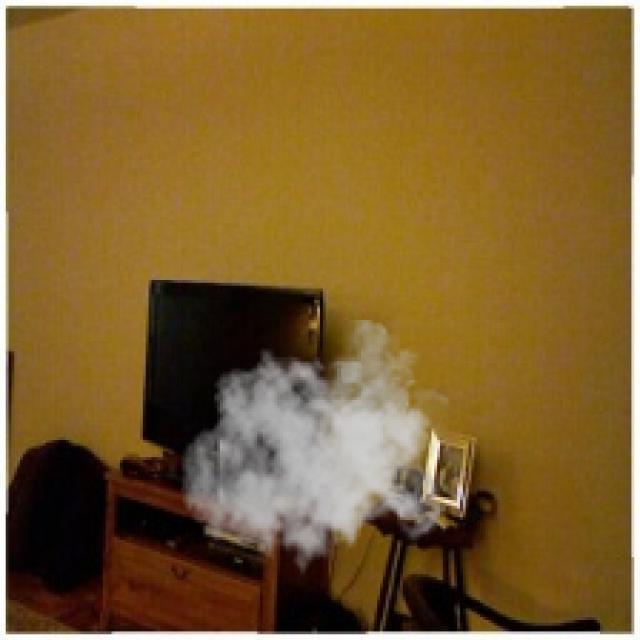smoke: (180, 320, 449, 586)
